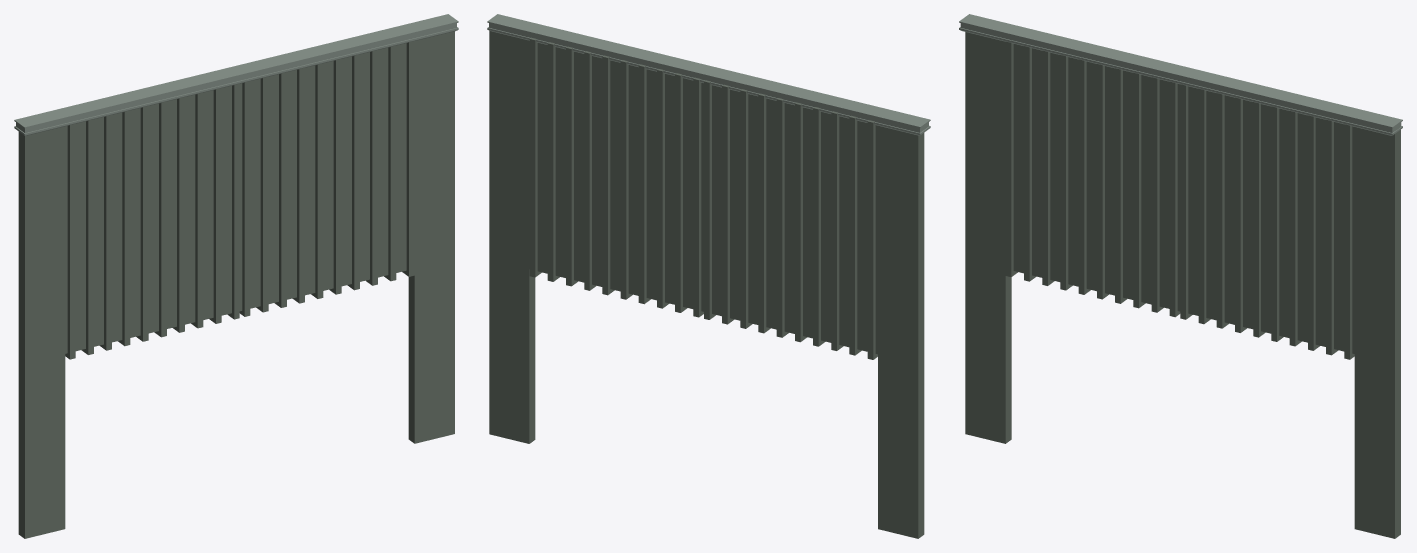
File: SM_garage_entry_03.fbx
3 views of the same model, side by side, from view 1: azimuth 30°, elevation 25°; view 2: azimuth 150°, elevation 25°; view 3: azimuth 330°, elevation 25° (orthographic).
Visible parts, largest first — view 1: garage_entry_03; view 2: garage_entry_03; view 3: garage_entry_03.
Part boxes in pixels (<box>): garage_entry_03: <box>14,14,458,538</box>; garage_entry_03: <box>487,14,930,538</box>; garage_entry_03: <box>959,14,1402,538</box>.
Size of the model in its own units: 754 by 688 by 34.29.
